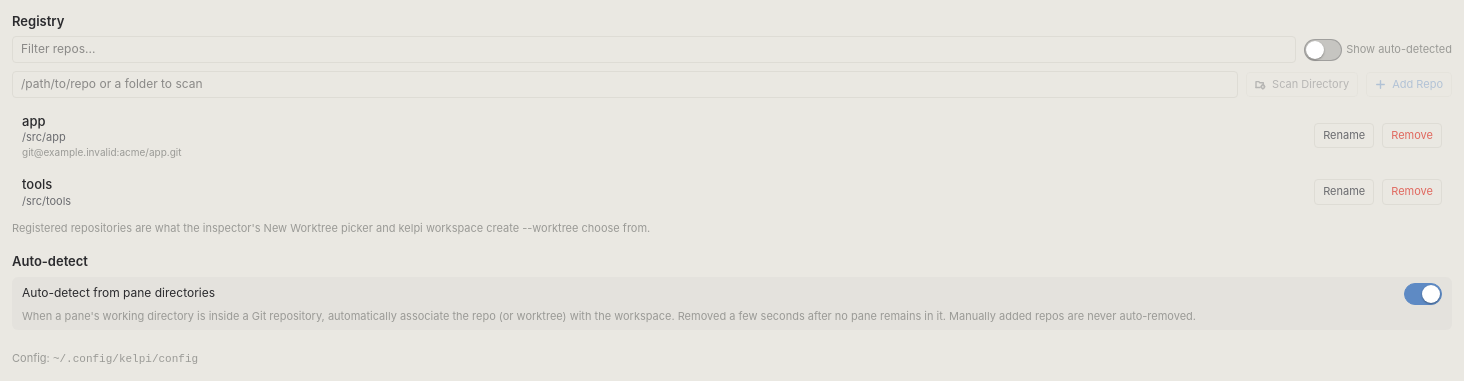
Test case: the registry gestures (§SET-053, §SET-054, §GIT-071, §GIT-072) › disables both buttons until a path is typed
The image size is (1464, 381).
Expected: the button with test id "repo-add" is disabled, [1366,72,1452,97]
Expected: the button with test id "repo-scan" is disabled, [1246,72,1358,97]
Step 1. Type "/src" into the field with test id "repo-path" → [625, 84], box [12,71,1238,98]
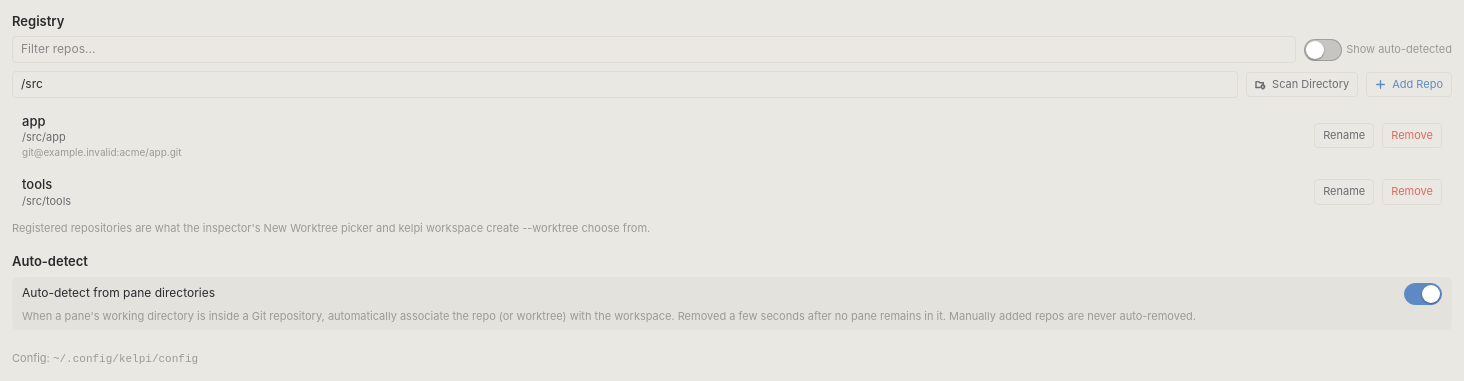
Result: the button with test id "repo-add" is enabled at [1366,72,1452,97]
